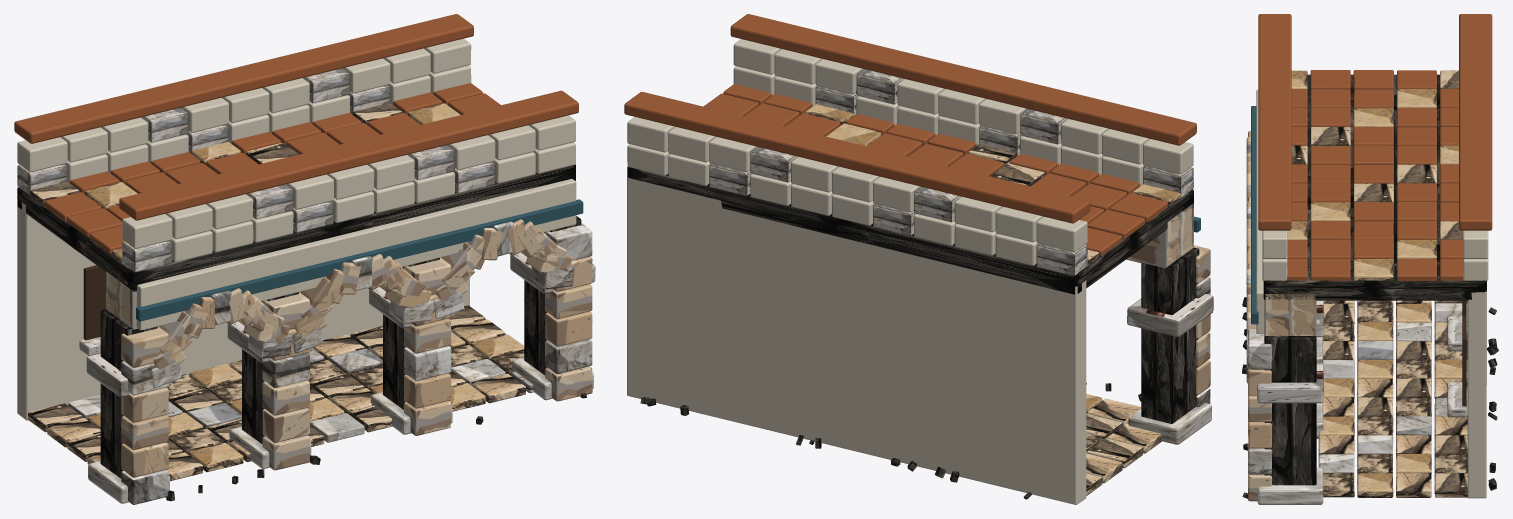
The model's file is greek_house_arcade_LOD0.glb.
3 views of the same model, side by side, from view 1: azimuth 30°, elevation 25°; view 2: azimuth 150°, elevation 25°; view 3: azimuth 270°, elevation 25° (orthographic). The views are drawn at different scales.
Visible parts, largest first — view 1: ArcadeBackWall, ArcadeUpperPlaster, ArcadeTerracottaCoping, ArcadeTerracottaCoping.001, ArcadeRoofSlab, ArcadeBlueBand, ArcadePierHeart, ArcadePierHeart.003, ArcadePierHeart.002, ArcadePierHeart.001, ArcadeWallNiche, ArcadeRoofParapet.033 (+108 smaller); view 2: ArcadeBackWall, ArcadeTerracottaCoping, ArcadeTerracottaCoping.001, ArcadeRoofSlab, ArcadePierHeart, ArcadePierCapital, ArcadeUpperHeart, ArcadePierBase, ArcadeRoofParapet.033, ArcadeRoofParapet.011, ArcadeRoofParapet.022, ArcadeRoofParapet.043 (+57 smaller); view 3: ArcadeTerracottaCoping, ArcadeTerracottaCoping.001, ArcadeRoofSlab, ArcadePierHeart.003, ArcadeBackWall, ArcadeUpperHeart, ArcadePierCapital.003, ArcadePierBase.003, ArcadeBlueBand, ArcadeUpperPlaster, ArcadeRoofTile.043, ArcadeRoofTile.032 (+107 smaller).
Boxes of the visible parts, x1,y1,x2,y2 form: ArcadeBackWall: (17, 199, 469, 420); ArcadeUpperPlaster: (136, 179, 576, 330); ArcadeTerracottaCoping: (119, 90, 578, 220); ArcadeTerracottaCoping.001: (14, 14, 473, 143); ArcadeRoofSlab: (17, 103, 575, 291); ArcadeBlueBand: (136, 199, 583, 321); ArcadePierHeart: (100, 309, 157, 478); ArcadePierHeart.003: (524, 216, 581, 375); ArcadePierHeart.002: (383, 258, 439, 409); ArcadePierHeart.001: (242, 292, 298, 444); ArcadeWallNiche: (83, 265, 105, 340); ArcadeRoofParapet.033: (17, 137, 67, 172); ArcadeBackWall: (627, 176, 1086, 504); ArcadeTerracottaCoping: (730, 14, 1196, 145); ArcadeTerracottaCoping.001: (624, 92, 1090, 223); ArcadeRoofSlab: (627, 143, 1193, 294); ArcadePierHeart: (1141, 247, 1199, 423); ArcadePierCapital: (1127, 294, 1213, 336); ArcadeUpperHeart: (1126, 203, 1193, 268); ArcadePierBase: (1128, 403, 1211, 444); ArcadeRoofParapet.033: (1036, 216, 1087, 252); ArcadeRoofParapet.011: (1143, 139, 1193, 174); ArcadeRoofParapet.022: (1036, 244, 1087, 275); ArcadeRoofParapet.043: (627, 117, 675, 152); ArcadeTerracottaCoping: (1258, 14, 1291, 230); ArcadeTerracottaCoping.001: (1459, 14, 1492, 230); ArcadeRoofSlab: (1263, 74, 1486, 300); ArcadePierHeart.003: (1264, 336, 1316, 485); ArcadeBackWall: (1467, 291, 1486, 498); ArcadeUpperHeart: (1264, 294, 1316, 335); ArcadePierCapital.003: (1257, 364, 1323, 403); ArcadePierBase.003: (1257, 467, 1323, 504); ArcadeBlueBand: (1251, 106, 1258, 324); ArcadeUpperPlaster: (1256, 89, 1264, 333); ArcadeRoofTile.043: (1397, 258, 1436, 280); ArcadeRoofTile.032: (1353, 258, 1393, 280).
Size of the model in its own units: 7.08 by 4.17 by 3.46.
Materials: 8 (4 with a texture image).
